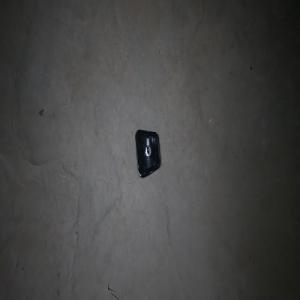LuggagePart: (134, 128, 161, 178)
